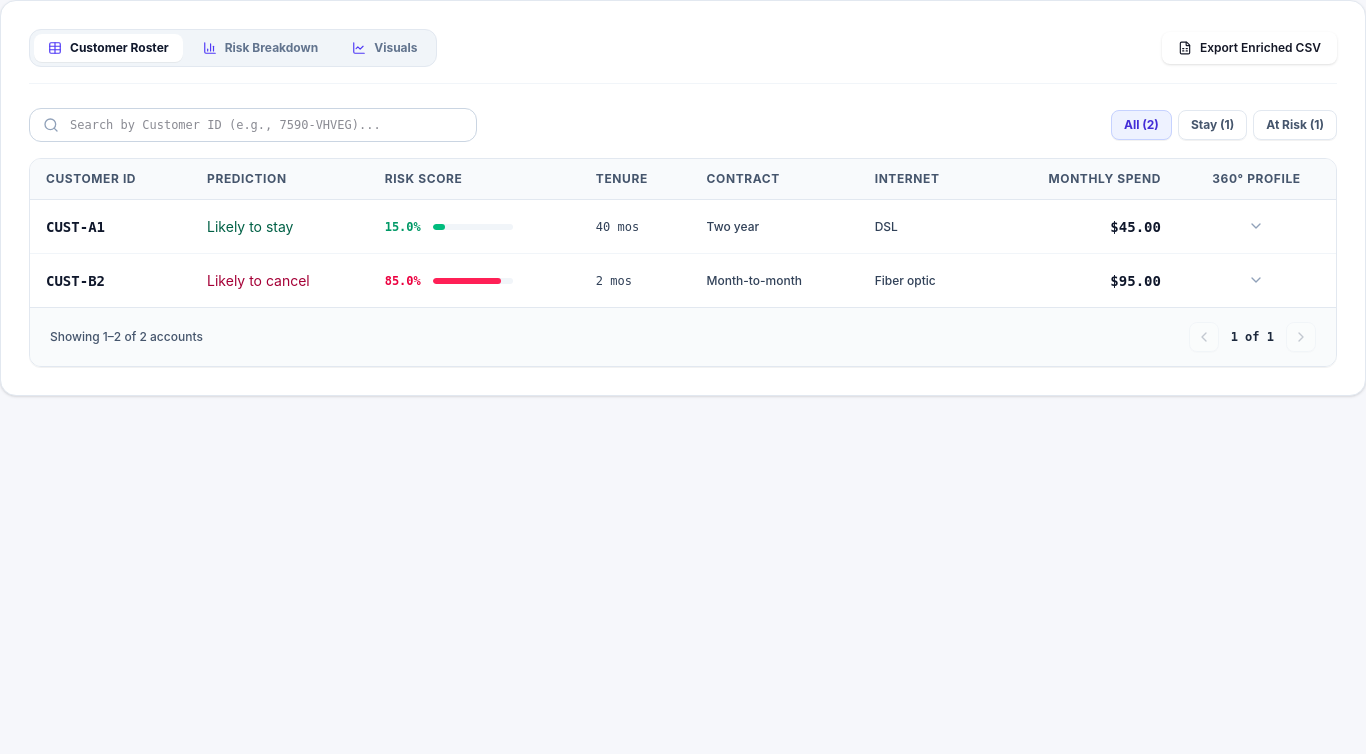
Test: ResultsTable Component › switches to the Visuals tab and renders data charts
Click the button "Visuals": click(385, 48) [338, 34, 432, 62]
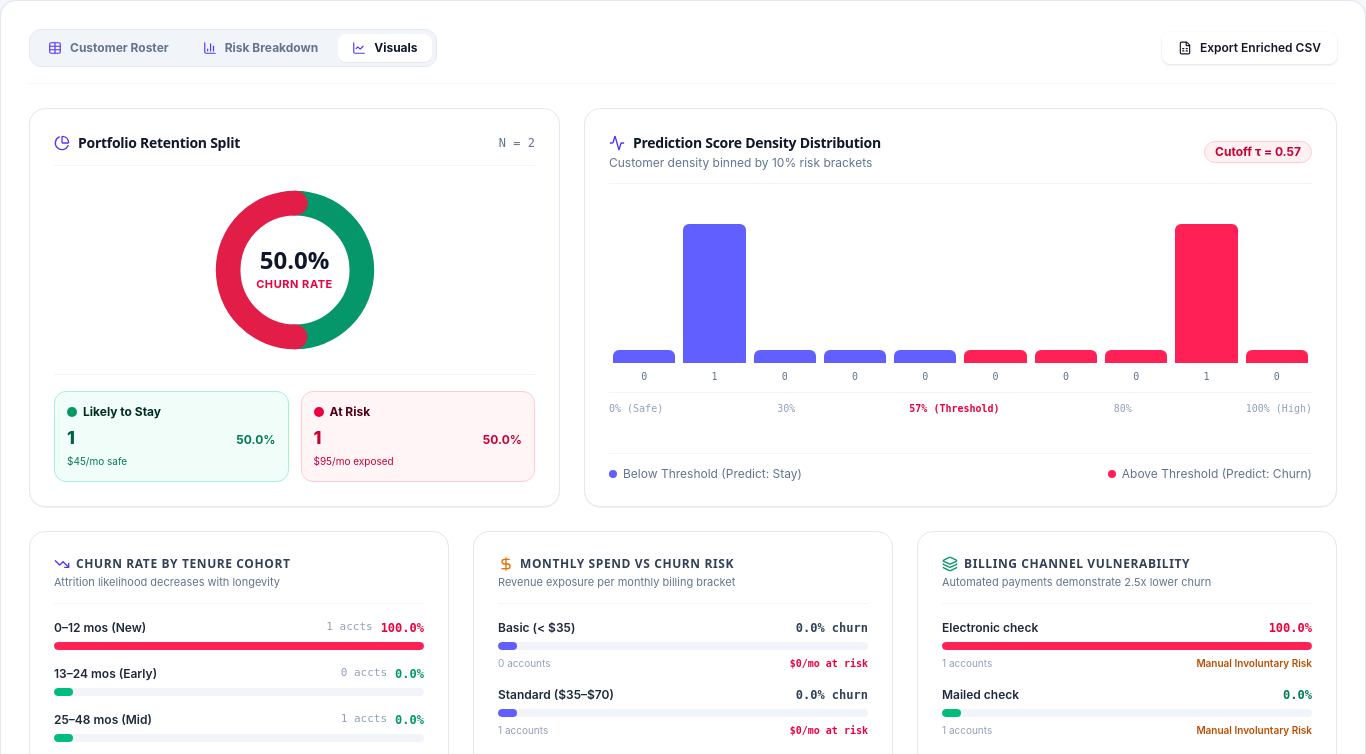
Expected: the heading "Portfolio Retention Split" is shown, [54, 133, 240, 153]
Expected: the heading "Churn Rate by Tenure Cohort" is shown, [54, 555, 290, 572]
Expected: the heading "Prediction Score Density Distribution" is shown, [609, 133, 881, 153]
